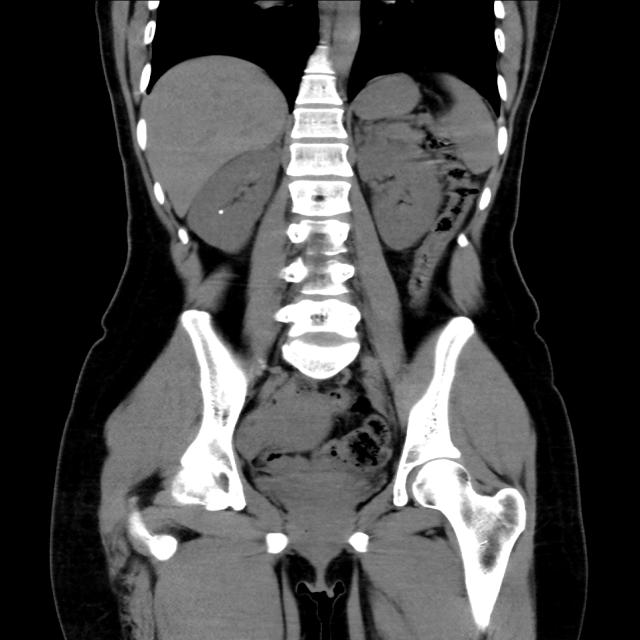kidneystone: (217, 209, 225, 214)
